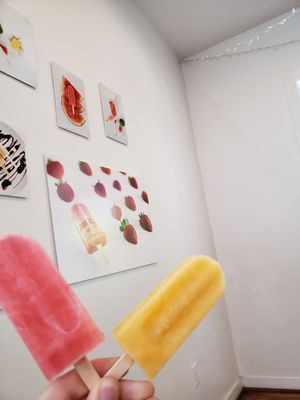pizza: (0, 230, 163, 399)
